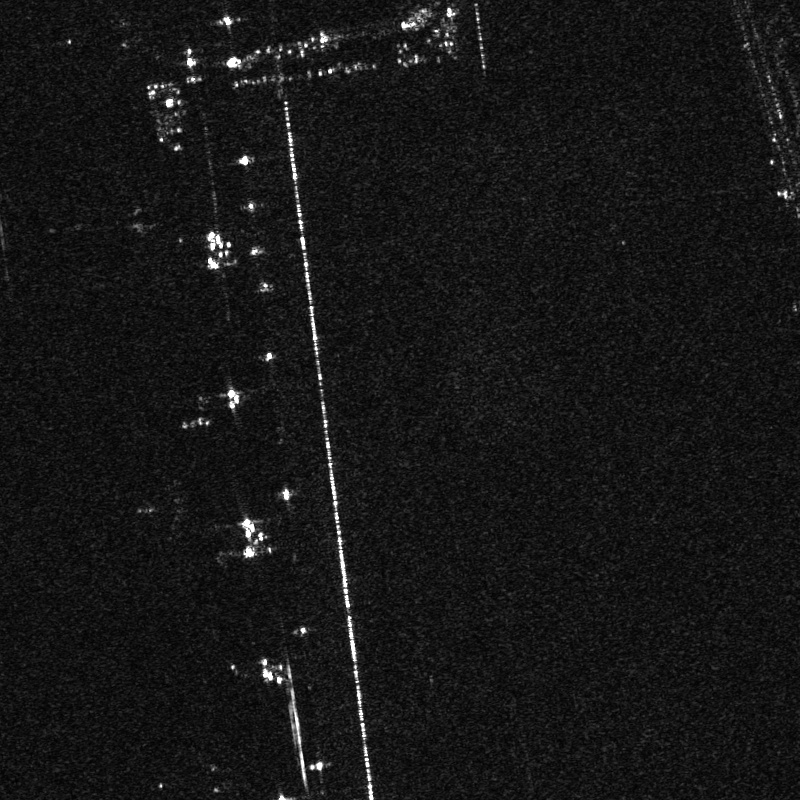Boeing787: (125, 470, 207, 544)
